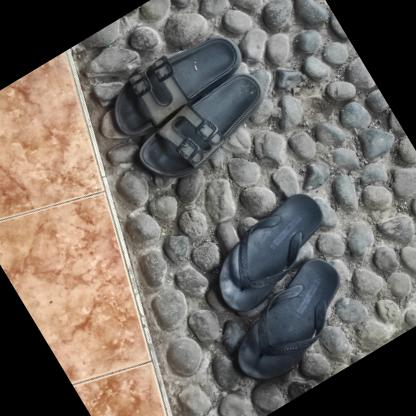Black Slide A: (94, 18, 252, 146), (126, 67, 280, 194)
Black Swallow A: (207, 249, 370, 396), (192, 186, 348, 323)
